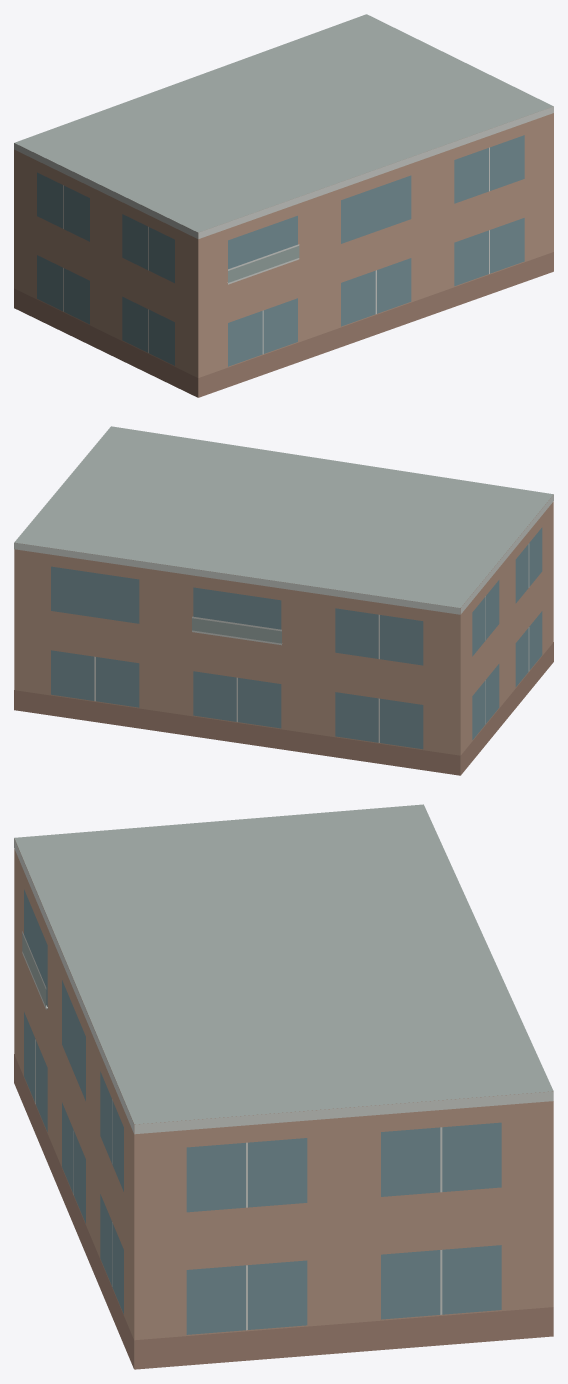
File: survey-upis-32879834.glb
The picture shows the model from 3 angles, top to bottom: view 1: azimuth 30°, elevation 25°; view 2: azimuth 150°, elevation 25°; view 3: azimuth 270°, elevation 25°; orthographic projection. The views are drawn at different scales.
Visible parts, largest first — view 1: survey-upis-32879834.tmp; view 2: survey-upis-32879834.tmp; view 3: survey-upis-32879834.tmp.
Part boxes in pixels (x1,y1,x2,y2): survey-upis-32879834.tmp: (14, 14, 553, 397); survey-upis-32879834.tmp: (14, 426, 553, 775); survey-upis-32879834.tmp: (14, 804, 553, 1369).
Bounding box in the file's own units: 17.1 × 6.1 × 12.18.
